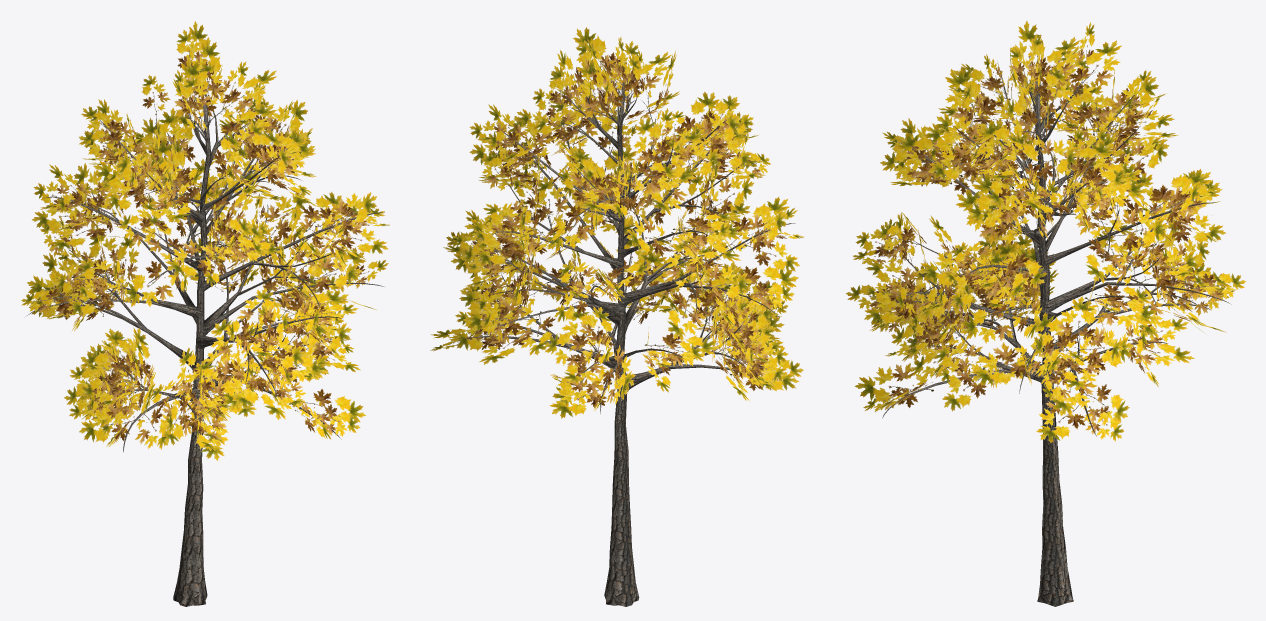
Rendered from huizache.fbx.
3 views of the same model, side by side, from view 1: azimuth 30°, elevation 25°; view 2: azimuth 150°, elevation 25°; view 3: azimuth 270°, elevation 25° (orthographic). The views are drawn at different scales.
Visible parts, largest first — view 1: SM_Maple1_MZRT; view 2: SM_Maple1_MZRT; view 3: SM_Maple1_MZRT.
Part boxes in pixels (bbox=[...]): SM_Maple1_MZRT: bbox=[21, 21, 389, 606]; SM_Maple1_MZRT: bbox=[430, 27, 803, 606]; SM_Maple1_MZRT: bbox=[846, 21, 1245, 606].
Size of the model in its own units: 379 by 558 by 354.
Materials: 2 (2 with a texture image).
